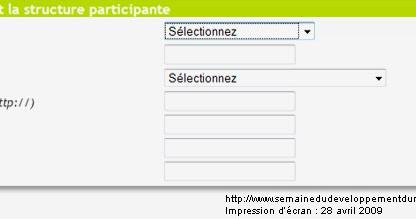field: (162, 68, 386, 88), (161, 20, 316, 41), (162, 114, 295, 138), (161, 44, 298, 66), (162, 90, 296, 112), (161, 162, 296, 183), (162, 138, 296, 159)
